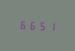five: (36, 19, 44, 31)
one: (45, 20, 53, 31)
six: (18, 19, 26, 30), (27, 19, 35, 30)
